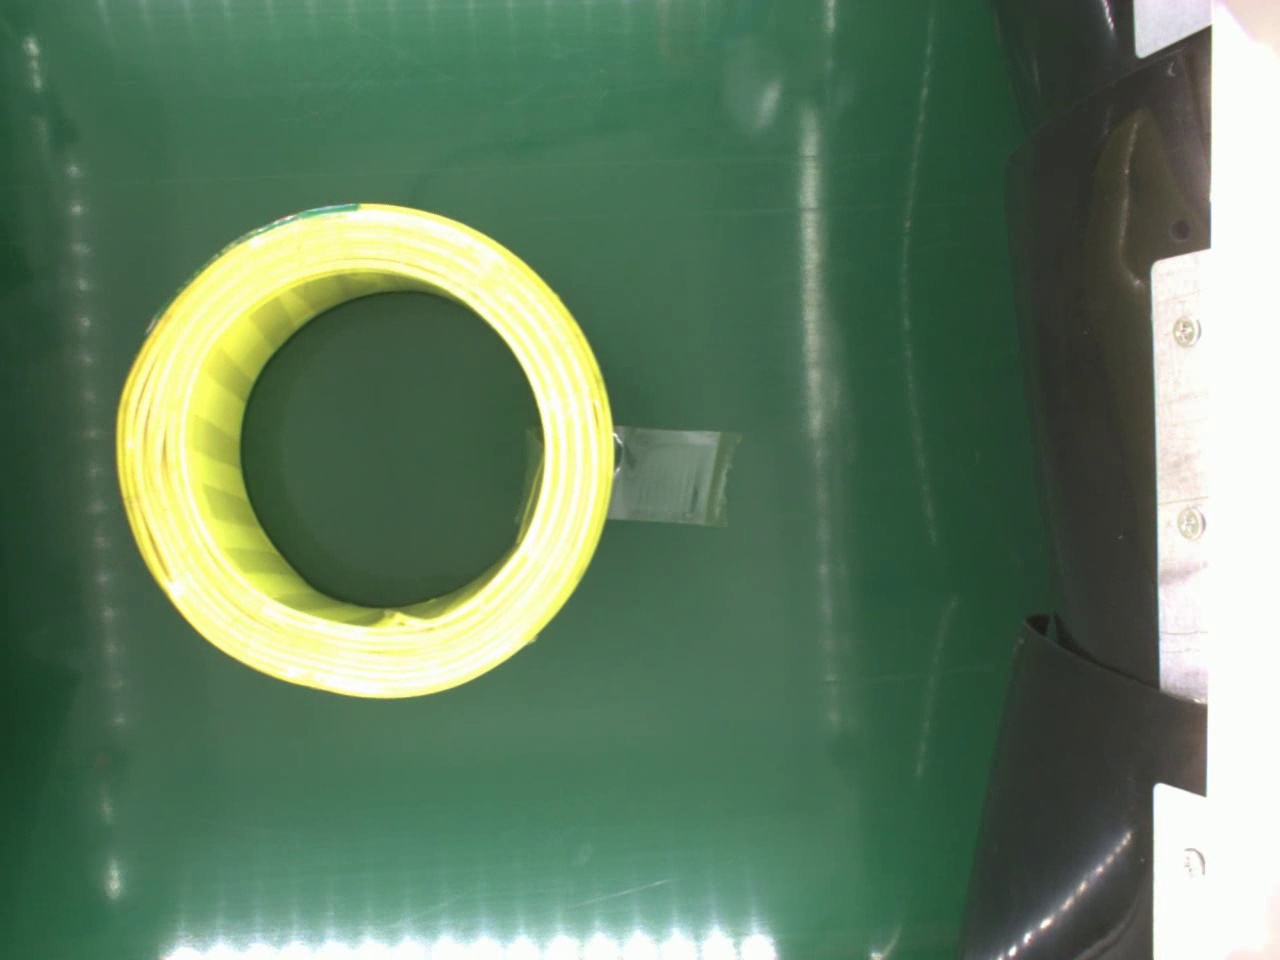yellow: (116, 195, 619, 703)
